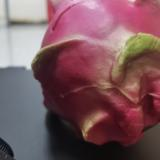pitaya: (35, 1, 160, 146)
